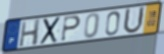0: (83, 12, 102, 40), (104, 10, 121, 37)
H: (18, 18, 42, 48)
P: (60, 15, 82, 43)
U: (122, 6, 146, 36)
X: (39, 16, 62, 46)
